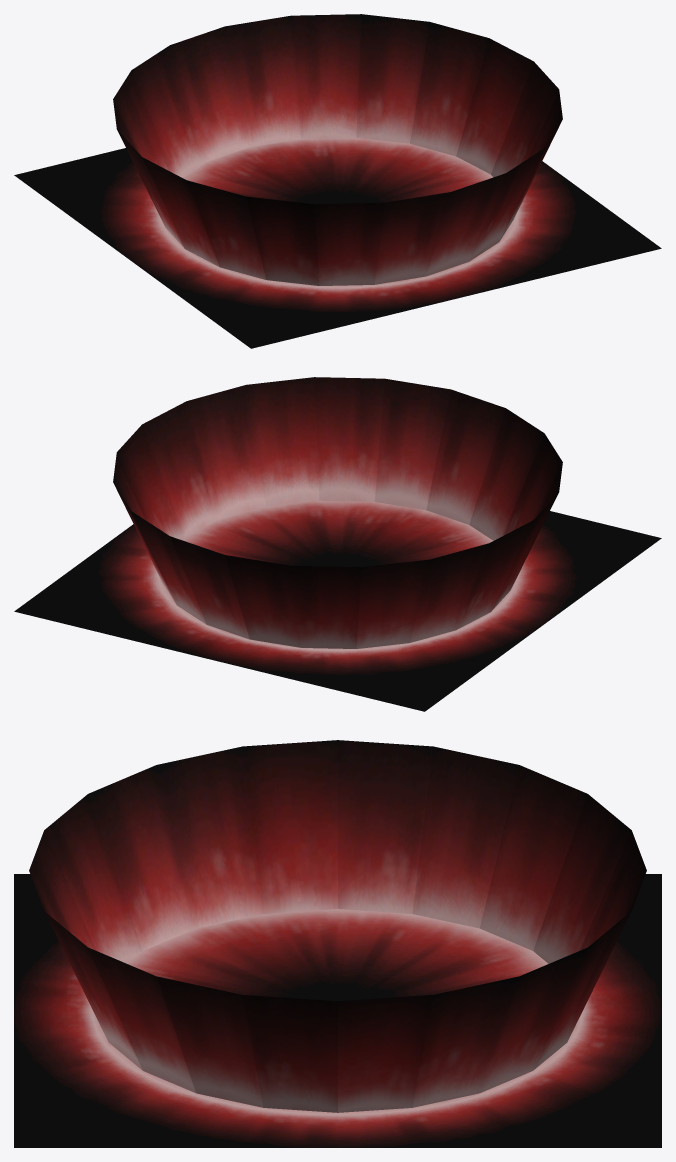
The model's file is red_aoe.obj.
3 renders of one model, top to bottom at view 1: azimuth 30°, elevation 25°; view 2: azimuth 150°, elevation 25°; view 3: azimuth 270°, elevation 25°, orthographic. The views are drawn at different scales.
Visible parts, largest first — view 1: Circle, Plane; view 2: Circle, Plane; view 3: Circle, Plane.
Boxes of the visible parts, bbox=[...] form: Circle: bbox=[113, 14, 562, 285]; Plane: bbox=[14, 137, 661, 348]; Circle: bbox=[113, 377, 562, 648]; Plane: bbox=[14, 500, 661, 711]; Circle: bbox=[29, 740, 646, 1112]; Plane: bbox=[14, 874, 661, 1147].
Bounding box in the file's own units: 3.94 × 0.9411 × 3.94.
